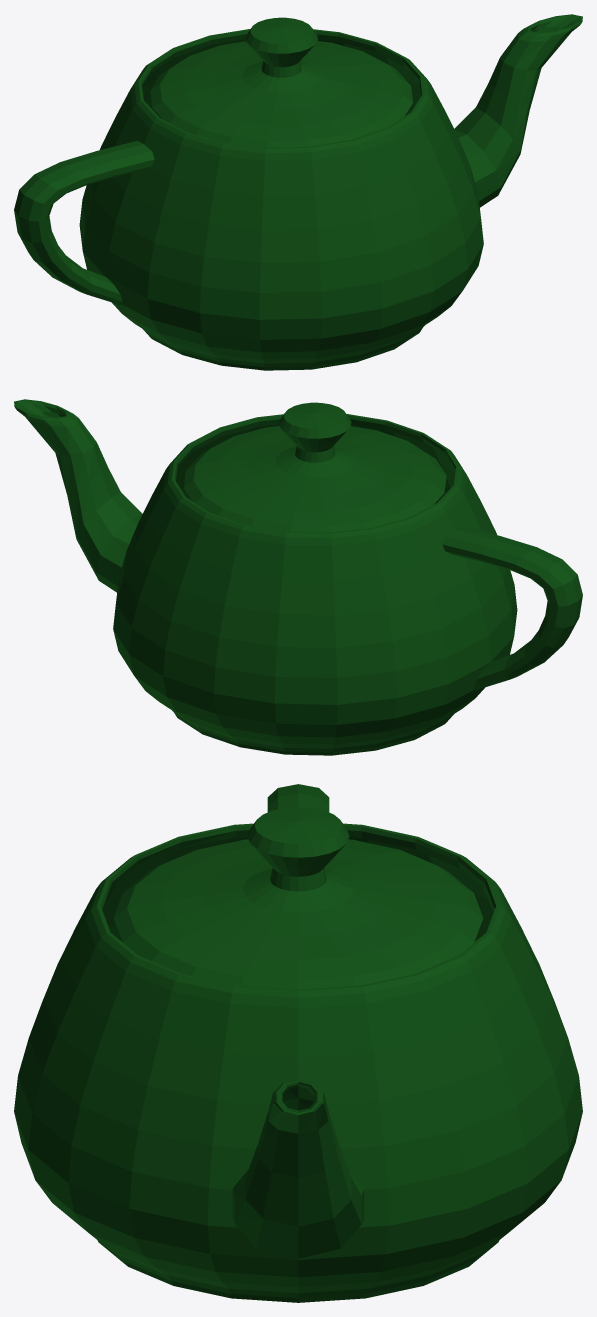
The model's file is teapotBerdea.obj.
3 renders of one model, top to bottom at view 1: azimuth 30°, elevation 25°; view 2: azimuth 150°, elevation 25°; view 3: azimuth 270°, elevation 25°, orthographic. The views are drawn at different scales.
Size of the model in its own units: 3.31 by 1.62 by 2.06.
